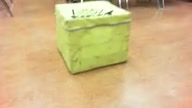cube: (54, 1, 133, 75)
